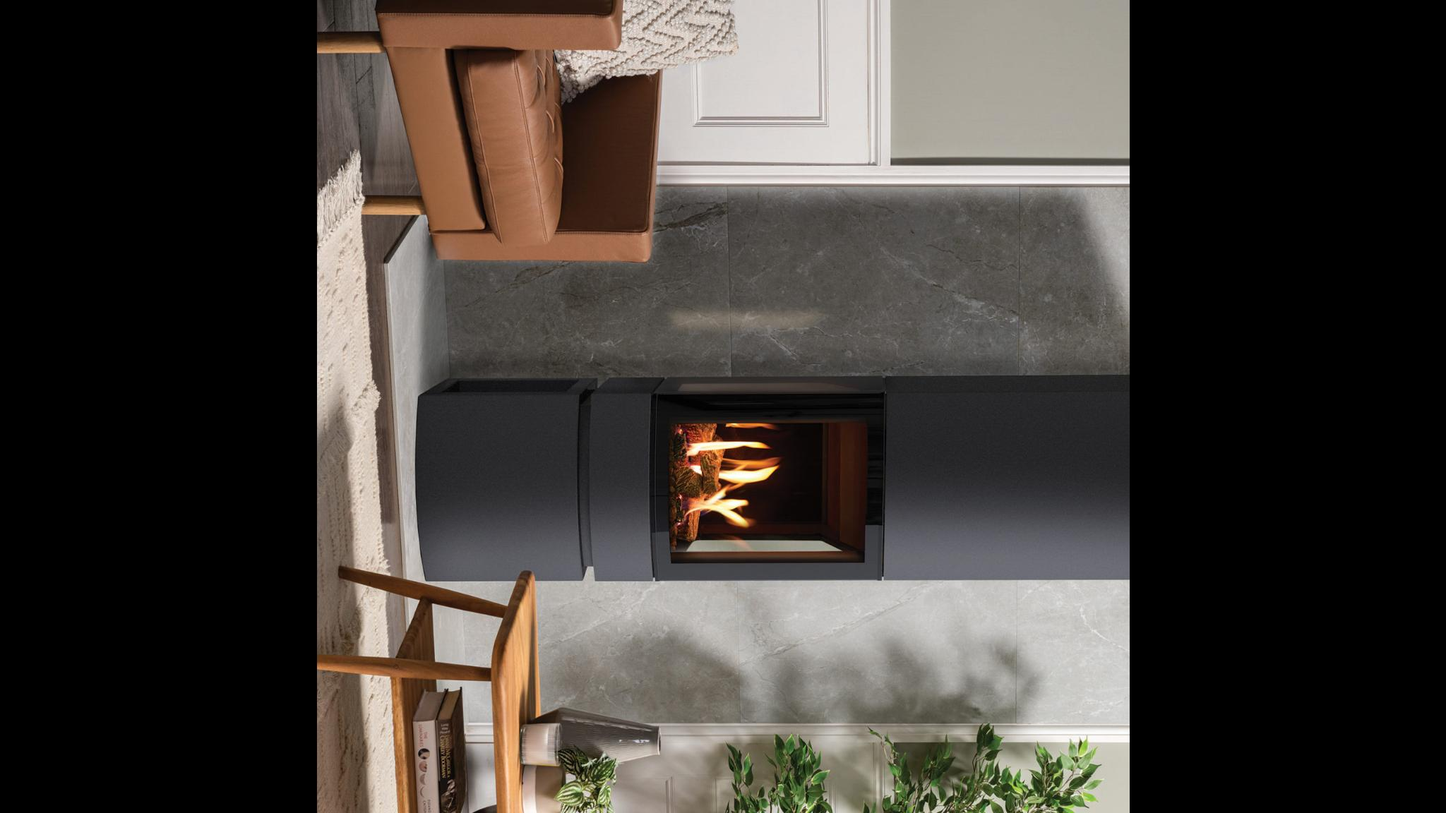controlled_fire: (594, 384, 830, 572)
